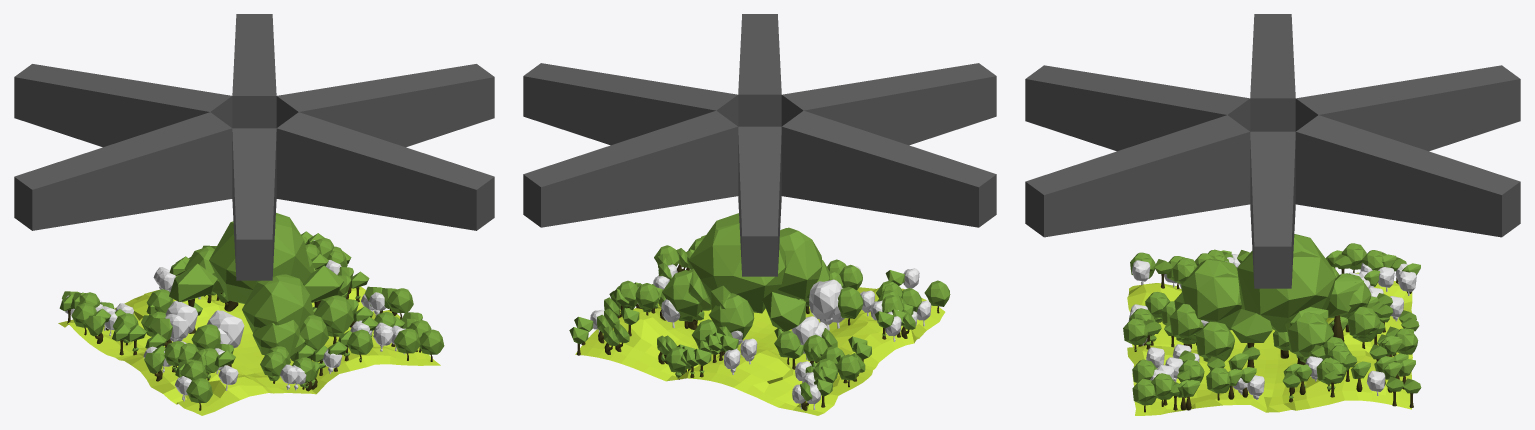
Rendered from map forêt2.fbx.
3 renders of one model, left to right at view 1: azimuth 30°, elevation 25°; view 2: azimuth 150°, elevation 25°; view 3: azimuth 270°, elevation 25°, orthographic. The views are drawn at different scales.
Visible parts, largest first — view 1: plateau deuxième rendu; view 2: plateau deuxième rendu; view 3: plateau deuxième rendu.
Boxes of the visible parts, x1,y1,x2,y2 form: plateau deuxième rendu: [14, 14, 494, 415]; plateau deuxième rendu: [523, 14, 996, 415]; plateau deuxième rendu: [1025, 14, 1520, 415].
Size of the model in its own units: 38646 by 18660 by 34779.
